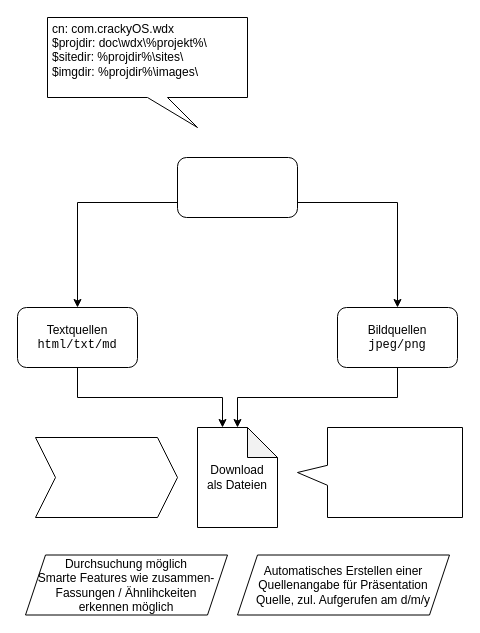
The diagram is 480 pixels wide and 633 high, and some of its shapes have lost their labels. The box of each missing label's shape, as (x1, y1, x2, y2) in pixels:
Metadaten wie: - Zeitpunkt vom Aufruf - URL der Webseite - markierte Sätze: (296, 426, 462, 518)
Projekt (Präsentation für Schule etc.): (176, 156, 298, 218)
Versionskontrolle bei möglichen Änderungen der online Quelle: (34, 436, 178, 518)
